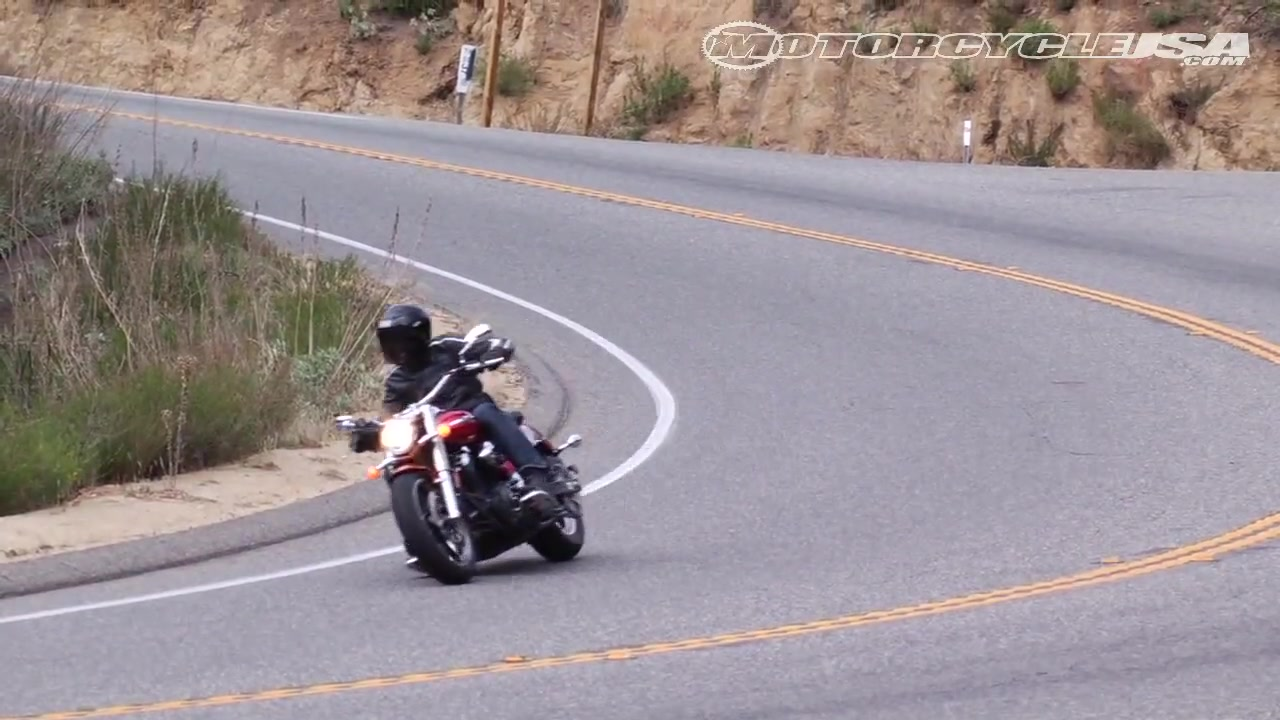motorbike: (335, 324, 592, 588)
